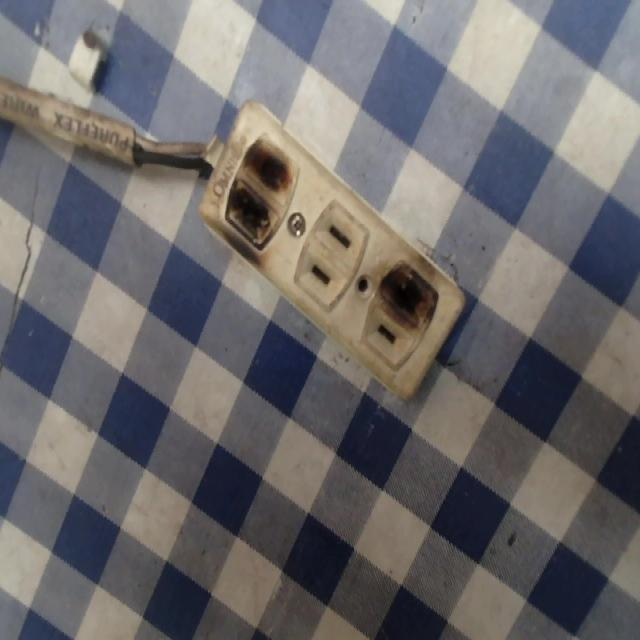-: (214, 130, 302, 266), (374, 252, 441, 340)
